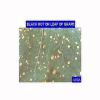grape leaf black rot: (19, 28, 80, 76)
